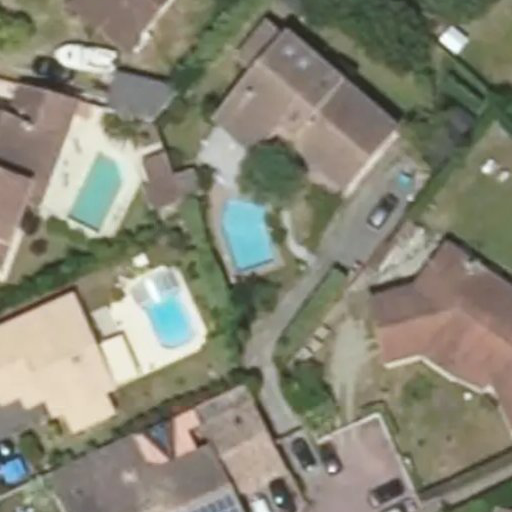pool: (220, 202, 287, 277)
